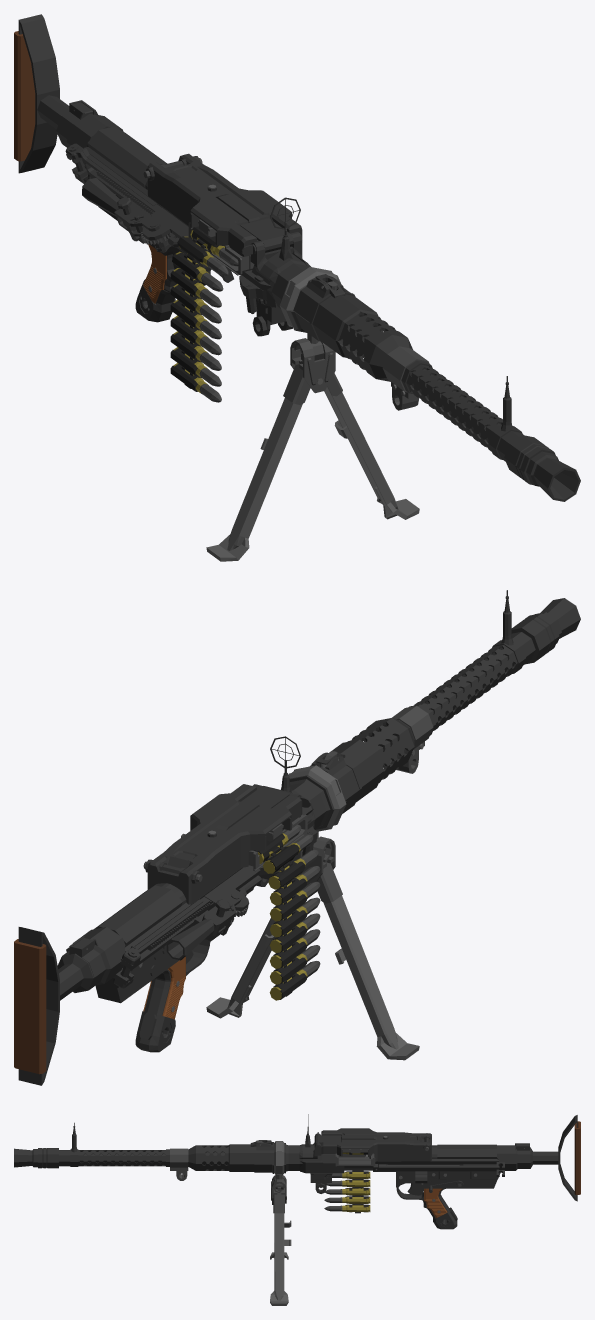
3 views of the same model, one above another, from view 1: azimuth 30°, elevation 25°; view 2: azimuth 150°, elevation 25°; view 3: azimuth 270°, elevation 25° (orthographic). The views are drawn at different scales.
Visible parts, largest first — view 1: MG 131 1, MG 131 1 Top Cover 1, MG 131 1 Stock 1, MG 131 1 Bipod 1 Leg Left 1, MG 131 1 Bipod 1 Leg Right 1, MG 131 1 Charging Handle 1, MG 131 1 Bipod Part 1, MG 131 1 Part 1, MG 131 1 Bipod Pivot 1, MG 131 1 Charging Bolt 1; view 2: MG 131 1, MG 131 1 Top Cover 1, MG 131 1 Stock 1, MG 131 1 Bipod 1 Leg Left 1, MG 131 1 Charging Handle 1, MG 131 1 Bipod 1 Leg Right 1, MG 131 1 Charging Bolt 1, MG 131 1 Bipod Pivot 1, MG 131 1 Part 1, MG 131 1 Bipod Part 1; view 3: MG 131 1, MG 131 1 Top Cover 1, MG 131 1 Bipod 1 Leg Right 1, MG 131 1 Stock 1, MG 131 1 Part 1, MG 131 1 Feed Tray 1, MG 131 1 Bipod Pivot 1, MG 131 1 Barrel 1.
Part boxes in pixels (box(x1,y1,x2,y2)): MG 131 1: box(56, 100, 580, 501); MG 131 1 Top Cover 1: box(143, 153, 302, 256); MG 131 1 Stock 1: box(14, 14, 69, 173); MG 131 1 Bipod 1 Leg Left 1: box(206, 353, 310, 561); MG 131 1 Bipod 1 Leg Right 1: box(324, 373, 419, 519); MG 131 1 Charging Handle 1: box(82, 178, 171, 252); MG 131 1 Bipod Part 1: box(290, 338, 335, 393); MG 131 1 Part 1: box(382, 346, 429, 410); MG 131 1 Bipod Pivot 1: box(279, 267, 340, 363); MG 131 1 Charging Bolt 1: box(135, 208, 205, 267); MG 131 1: box(62, 590, 580, 1052); MG 131 1 Top Cover 1: box(143, 784, 310, 904); MG 131 1 Stock 1: box(14, 927, 93, 1085); MG 131 1 Bipod 1 Leg Left 1: box(317, 851, 419, 1060); MG 131 1 Charging Handle 1: box(166, 892, 248, 960); MG 131 1 Bipod 1 Leg Right 1: box(206, 877, 295, 1018); MG 131 1 Charging Bolt 1: box(190, 865, 261, 941); MG 131 1 Bipod Pivot 1: box(288, 765, 346, 862); MG 131 1 Part 1: box(392, 706, 433, 773); MG 131 1 Bipod Part 1: box(294, 836, 335, 885); MG 131 1: box(14, 1122, 529, 1229); MG 131 1 Top Cover 1: box(314, 1128, 431, 1161); MG 131 1 Bipod 1 Leg Right 1: box(270, 1187, 291, 1305); MG 131 1 Stock 1: box(530, 1115, 580, 1201); MG 131 1 Part 1: box(170, 1148, 188, 1180); MG 131 1 Feed Tray 1: box(321, 1153, 375, 1166); MG 131 1 Bipod Pivot 1: box(273, 1141, 284, 1192); MG 131 1 Barrel 1: box(80, 1152, 228, 1164).
Size of the model in its own units: 0.3592 by 0.548 by 1.68.
